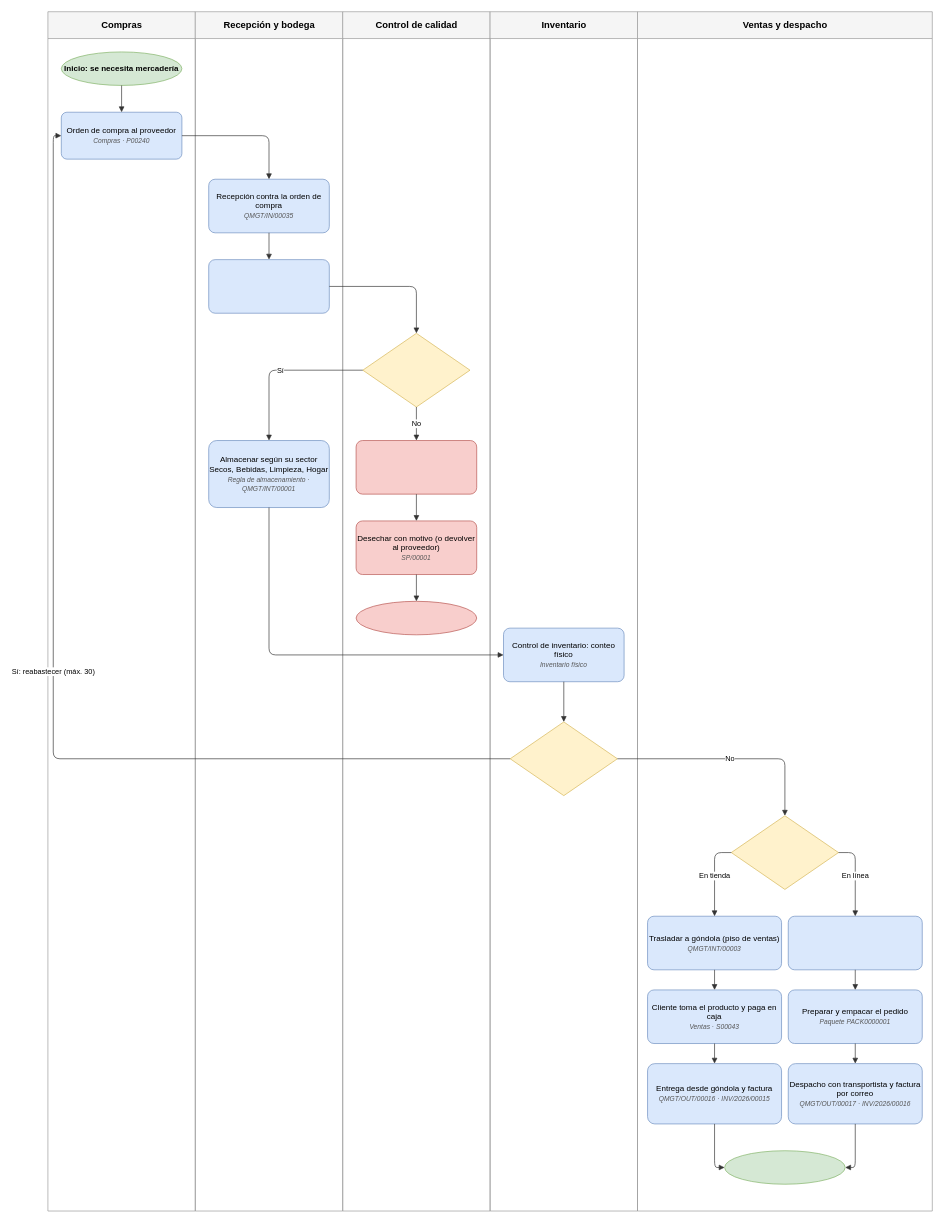
Some shapes in this 944 by 1223 pixel diagram are drawn without their labels. The centre of each missing label's shape, as x and y in pixels:
Cliente compra en la tienda en línea y paga Sitio web · S00044: point 855,943
Fin: point 416,618
Fin: producto vendido: point 784,1167
Separar producto defectuoso QMGT/INT/00002: point 416,467
Ubicar en Control de calidad QMGT/Control de calidad: point 268,286
¿Canal de venta?: point 785,852
¿Existencia bajo el mínimo ejemplo (5)?: point 563,758
¿Pasa el control de calidad?: point 416,370
